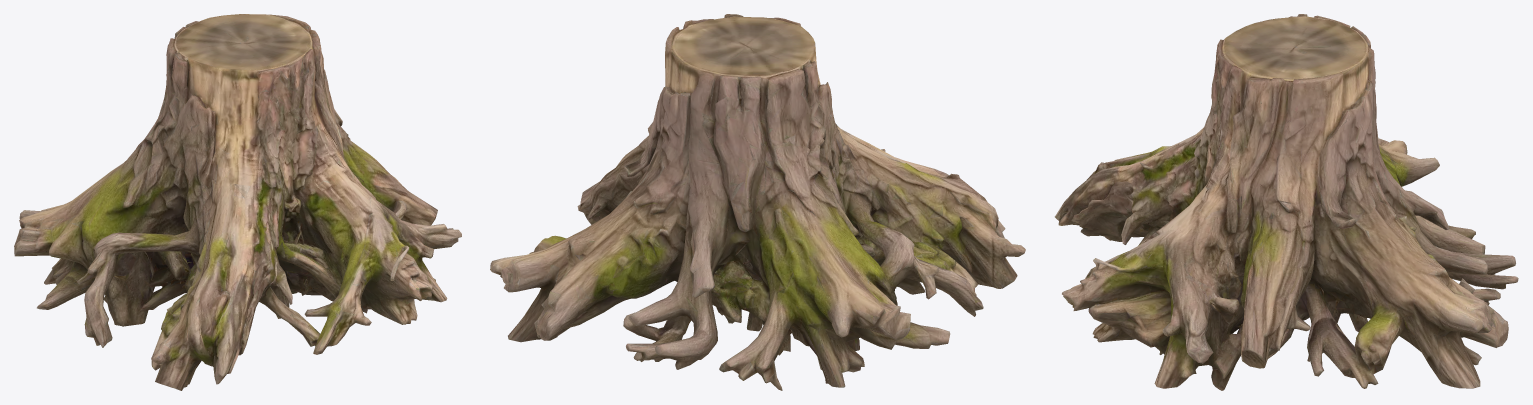
File: prop_stump.glb
3 views of the same model, side by side, from view 1: azimuth 30°, elevation 25°; view 2: azimuth 150°, elevation 25°; view 3: azimuth 270°, elevation 25° (orthographic). The views are drawn at different scales.
Visible parts, largest first — view 1: Mesh_0; view 2: Mesh_0; view 3: Mesh_0.
Part boxes in pixels (x1,y1,x2,y2): Mesh_0: (14,14,461,390); Mesh_0: (490,14,1025,390); Mesh_0: (1054,14,1518,390).
Size of the model in its own units: 1.91 by 1.28 by 1.91.
1 material, 1 textured.
